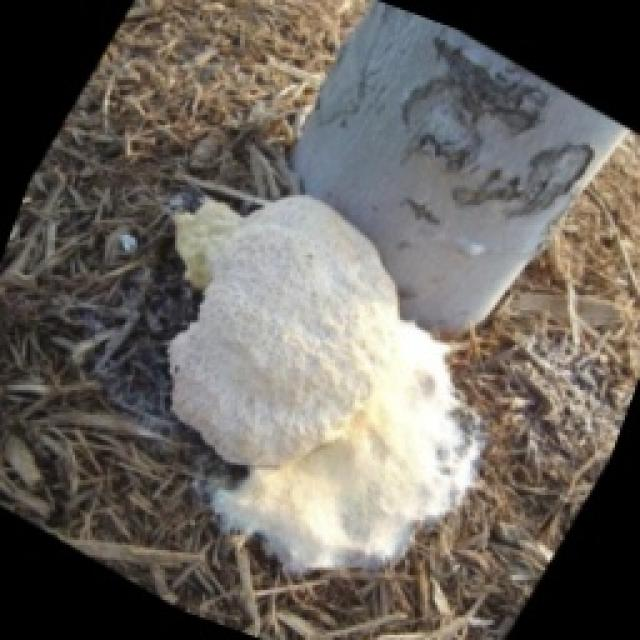Dog_vomit_slime_mold: (134, 163, 501, 572)
